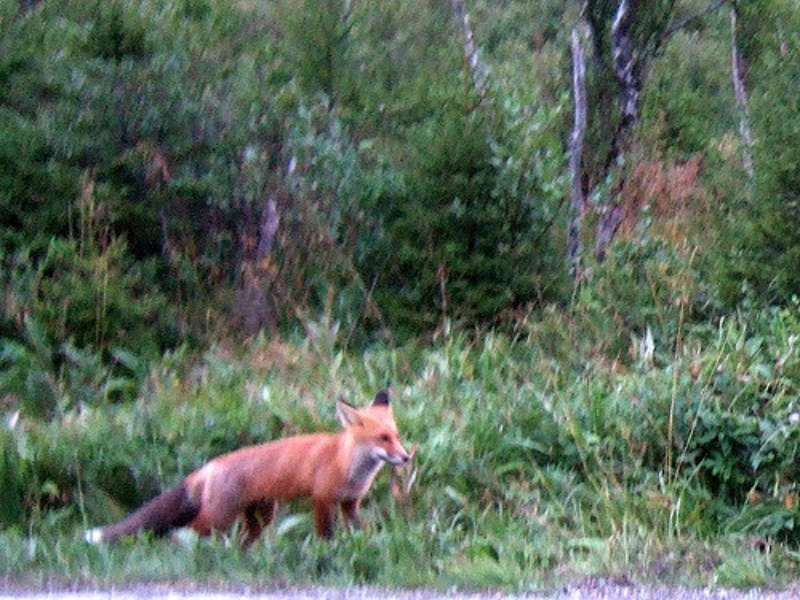fox: (77, 388, 410, 562)
